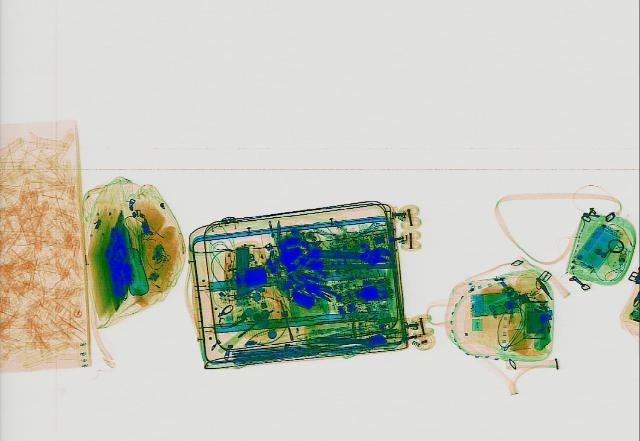Wrench: (300, 239, 392, 268), (314, 332, 386, 348)
